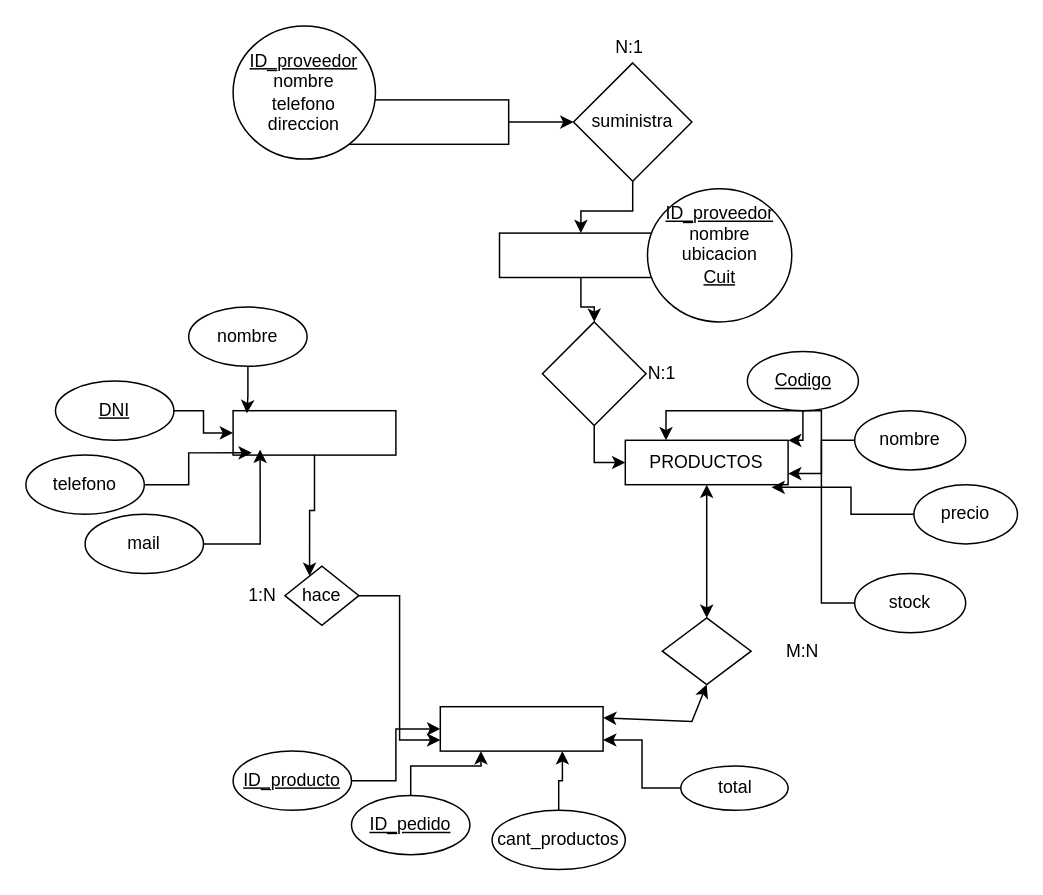
Image size: 1043x895. Some labels were removed from this diagram. Here are the shapes that lost their labels. From the top down, the box of each, then its label:
(344, 98, 509, 144): Proveedor
(498, 232, 662, 278): Tienda
(541, 320, 646, 426): tiene
(232, 409, 396, 455): CLIENTES
(661, 616, 751, 684): contiene
(439, 705, 603, 751): PEDIDOS
